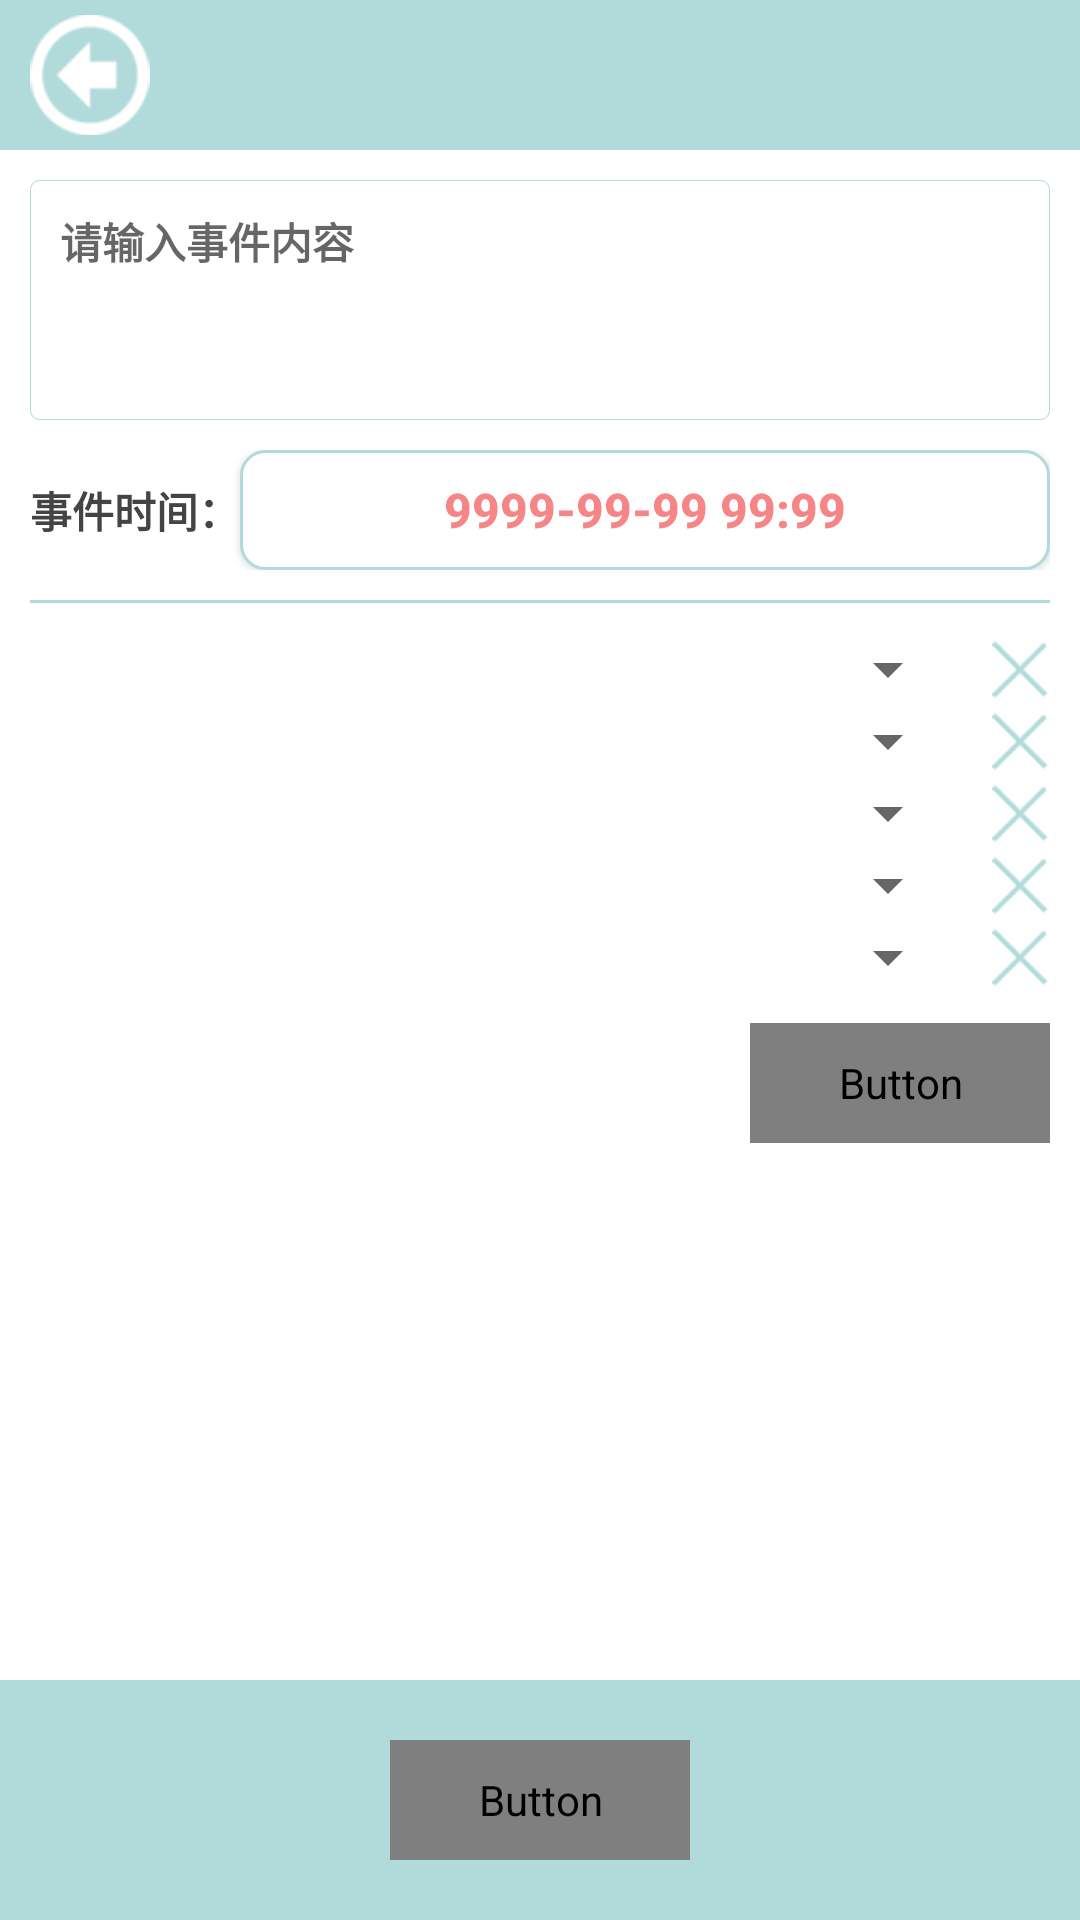

Icon bounding boxes for this 1080 × 1920 phone screenshot, format (x1, y1, x2, y2):
back: (30, 15, 150, 135)
close: (992, 641, 1047, 698), (992, 713, 1047, 770), (992, 785, 1047, 842), (992, 857, 1047, 914), (992, 929, 1047, 986)
